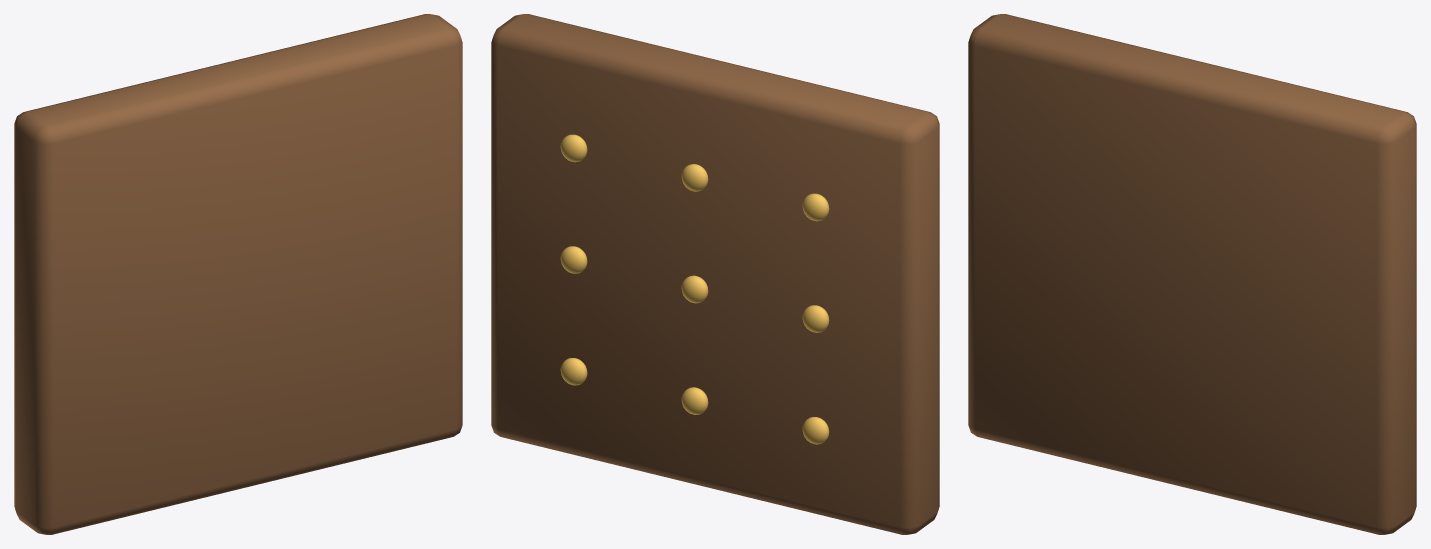
Rendered from farm_plot_seeded.glb.
The picture shows the model from 3 angles, left to right: view 1: azimuth 30°, elevation 25°; view 2: azimuth 150°, elevation 25°; view 3: azimuth 330°, elevation 25°; orthographic projection.
Parts seen in each view (by area): view 1: Soil; view 2: Soil, Seed.003, Seed.006, Seed.007, Seed.002, Seed.001, Seed.005, Seed.008, Seed, Seed.004; view 3: Soil.
Part boxes in pixels (<box>): Soil: <box>14,14,462,534</box>; Soil: <box>491,14,939,534</box>; Seed.003: <box>681,387,708,414</box>; Seed.006: <box>560,358,587,385</box>; Seed.007: <box>560,246,587,273</box>; Seed.002: <box>802,193,829,221</box>; Seed.001: <box>802,305,829,332</box>; Seed.005: <box>681,164,708,191</box>; Seed.008: <box>560,134,587,162</box>; Seed: <box>802,417,829,444</box>; Seed.004: <box>681,275,708,303</box>; Soil: <box>968,14,1416,534</box>.
Bounding box in the file's own units: 1.2 × 1.1 × 0.205.
